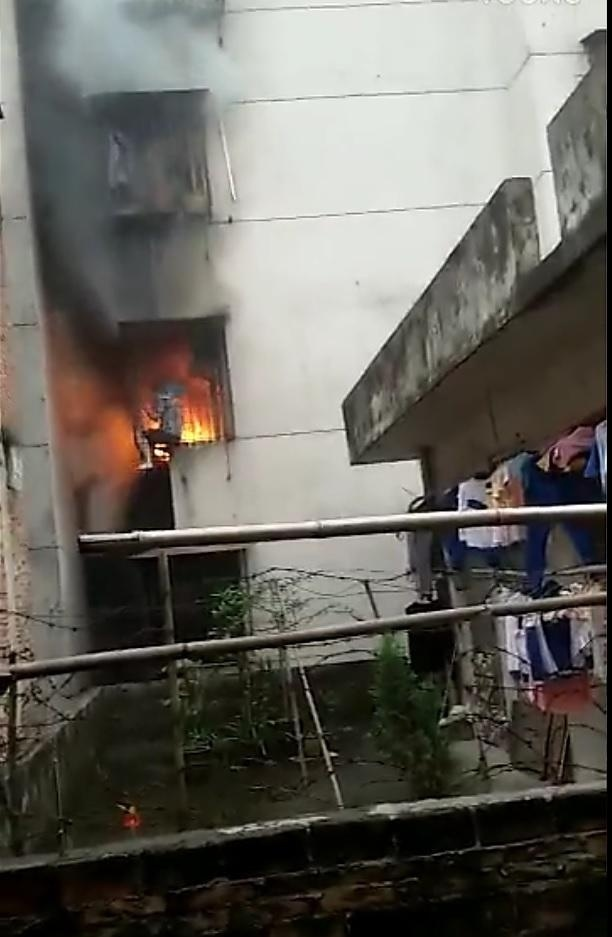fire: (141, 370, 224, 458)
